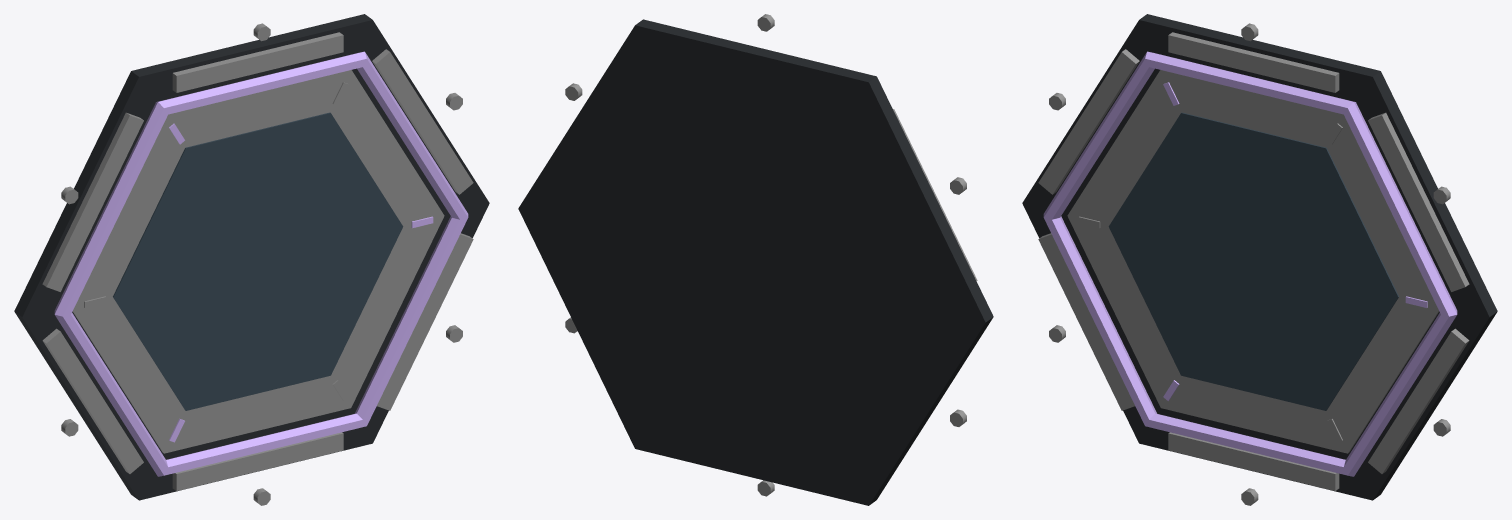
The model's file is Vault_GlyphPlate.fbx.
The picture shows the model from 3 angles, left to right: view 1: azimuth 30°, elevation 25°; view 2: azimuth 150°, elevation 25°; view 3: azimuth 330°, elevation 25°; orthographic projection.
Parts seen in each view (by area): view 1: Vault_GlyphPlate_LOD0; view 2: Vault_GlyphPlate_LOD0; view 3: Vault_GlyphPlate_LOD0.
Boxes of the visible parts, x1=… form: Vault_GlyphPlate_LOD0: x1=14, y1=14, x2=489, y2=505; Vault_GlyphPlate_LOD0: x1=518, y1=14, x2=993, y2=505; Vault_GlyphPlate_LOD0: x1=1022, y1=14, x2=1497, y2=505.
Size of what is drawn, in the model's own units: 2 by 1.96 by 0.1303.
